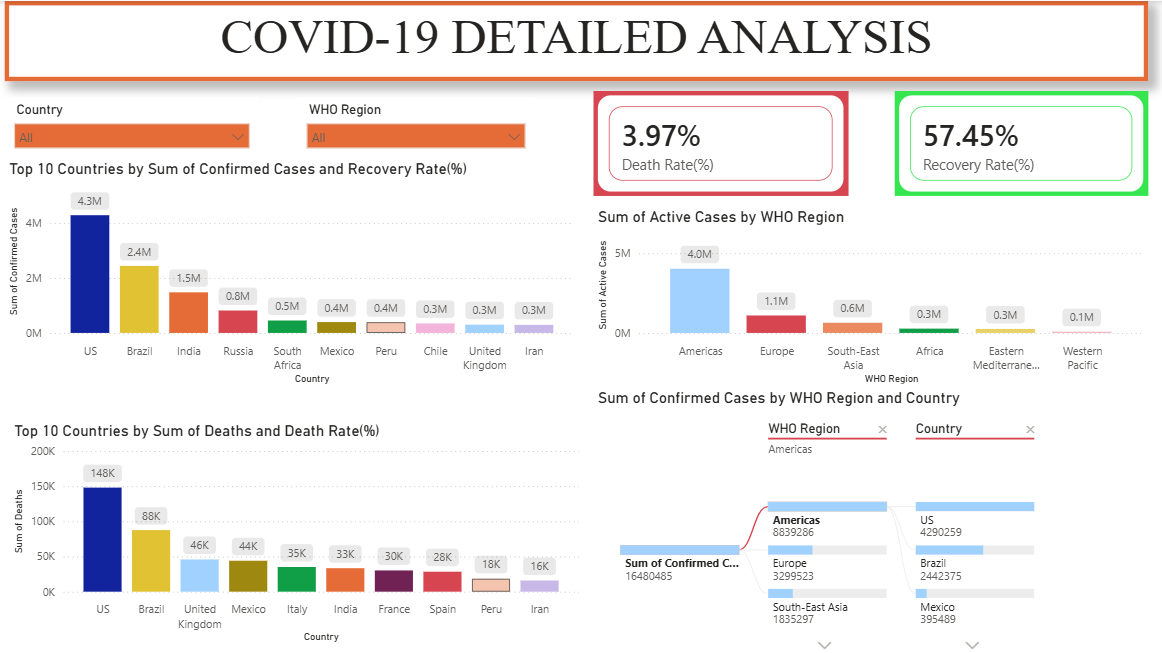

This screenshot's page, from the dashboard's own definition file:
{"tool":"powerbi","page":{"name":"Detailed Analysis","canvas":[1280,720],"ordinal":1},"visuals":[{"type":"textbox","box":[9.6,0,1255.6,87.8],"z":0},{"type":"slicer","fields":{"Values":["Covid-19 datasets.Country/Region"]},"box":[9.6,105.7,278.6,68.6],"z":1000},{"type":"slicer","fields":{"Values":["Covid-19 datasets.WHO Region"]},"box":[330.7,105.7,260.7,68.6],"z":2000},{"type":"cardVisual","fields":{"Data":["All Measures.Death Rate(%)"]},"box":[655.9,98.8,279.9,115.3],"z":3000},{"type":"cardVisual","fields":{"Data":["All Measures.Recovery Rate(%)"]},"box":[986.6,98.8,278.6,115.3],"z":4000},{"type":"clusteredColumnChart","title":"Top 10 Countries by Sum of Confirmed Cases and Recovery Rate(%) ","fields":{"Category":["Covid-19 datasets.Country/Region"],"Y":["Sum(Covid-19 datasets.Confirmed)"]},"box":[9.6,174.3,629.8,251.1],"z":5000},{"type":"clusteredColumnChart","title":"Top 10 Countries by Sum of Deaths and Death Rate(%) ","fields":{"Category":["Covid-19 datasets.Country/Region"],"Y":["Sum(Covid-19 datasets.Deaths)"]},"box":[15.1,461.1,629.8,248.4],"z":6000},{"type":"clusteredColumnChart","fields":{"Category":["Covid-19 datasets.WHO Region"],"Y":["Sum(Covid-19 datasets.Active)"]},"box":[655.9,226.4,609.3,199],"z":7000},{"type":"decompositionTreeVisual","title":"Sum of Confirmed Cases by WHO Region and Country","fields":{"Analyze":["Sum(Covid-19 datasets.Confirmed)"],"ExplainBy":["Covid-19 datasets.WHO Region","Covid-19 datasets.Country/Region"]},"box":[655.9,425.4,609.3,295],"z":8000}]}

Visuals, with their boxes in screenshot pixels (x1, y1, x2, y2), scaled from the page's 1280x720 canvas onto the 1162x653 screenshot:
textbox: 9/0/1149/80
slicer - Covid-19 datasets.Country/Region: 9/96/262/158
slicer - Covid-19 datasets.WHO Region: 300/96/537/158
cardVisual - All Measures.Death Rate(%): 595/90/850/194
cardVisual - All Measures.Recovery Rate(%): 896/90/1149/194
"Top 10 Countries by Sum of Confirmed Cases and Recovery Rate(%) " clusteredColumnChart: 9/158/580/386
"Top 10 Countries by Sum of Deaths and Death Rate(%) " clusteredColumnChart: 14/418/585/643
clusteredColumnChart - Covid-19 datasets.WHO Region x Sum(Covid-19 datasets.Active): 595/205/1149/386
"Sum of Confirmed Cases by WHO Region and Country" decompositionTreeVisual: 595/386/1149/652
